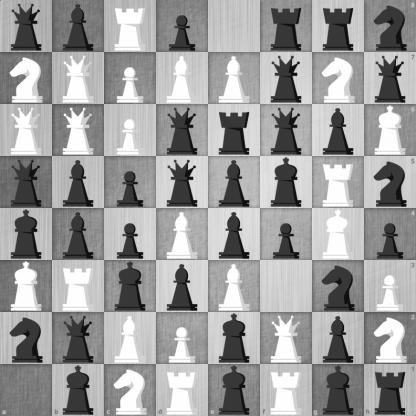B: (105, 313, 156, 364), (157, 53, 208, 104), (157, 209, 208, 260), (209, 53, 260, 104), (209, 261, 260, 312)
K: (364, 104, 416, 156), (1, 261, 52, 312), (313, 209, 364, 260)
N: (104, 364, 156, 416), (364, 312, 416, 364), (1, 53, 52, 104), (313, 53, 364, 104)
P: (364, 260, 416, 312), (105, 53, 156, 104), (105, 105, 156, 156), (157, 313, 208, 364)
Q: (1, 105, 52, 156), (53, 53, 104, 104), (53, 105, 104, 156), (261, 313, 312, 364)
R: (156, 364, 209, 416), (260, 364, 312, 416), (53, 261, 104, 312), (105, 1, 156, 52), (313, 157, 364, 208)
b: (53, 1, 104, 52), (53, 157, 104, 208), (53, 209, 104, 260), (157, 261, 208, 312), (209, 157, 260, 208), (209, 209, 260, 260), (313, 105, 364, 156), (313, 313, 364, 364)
board: (0, 0, 415, 415)
k: (52, 364, 104, 416), (312, 364, 364, 416), (209, 364, 260, 416), (1, 209, 52, 260), (105, 261, 156, 312), (209, 313, 260, 364), (261, 157, 312, 208)
n: (364, 156, 416, 209), (364, 0, 416, 52), (1, 313, 52, 364), (313, 261, 364, 312)
p: (364, 209, 416, 260), (105, 157, 156, 208), (105, 209, 156, 260), (157, 1, 208, 52), (261, 209, 312, 260)
q: (364, 52, 416, 104), (1, 1, 52, 52), (1, 157, 52, 208), (53, 313, 104, 364), (157, 105, 208, 156), (157, 157, 208, 208), (261, 53, 312, 104), (261, 105, 312, 156)
r: (364, 364, 416, 416), (209, 105, 260, 156), (261, 1, 312, 52), (313, 1, 364, 52)
